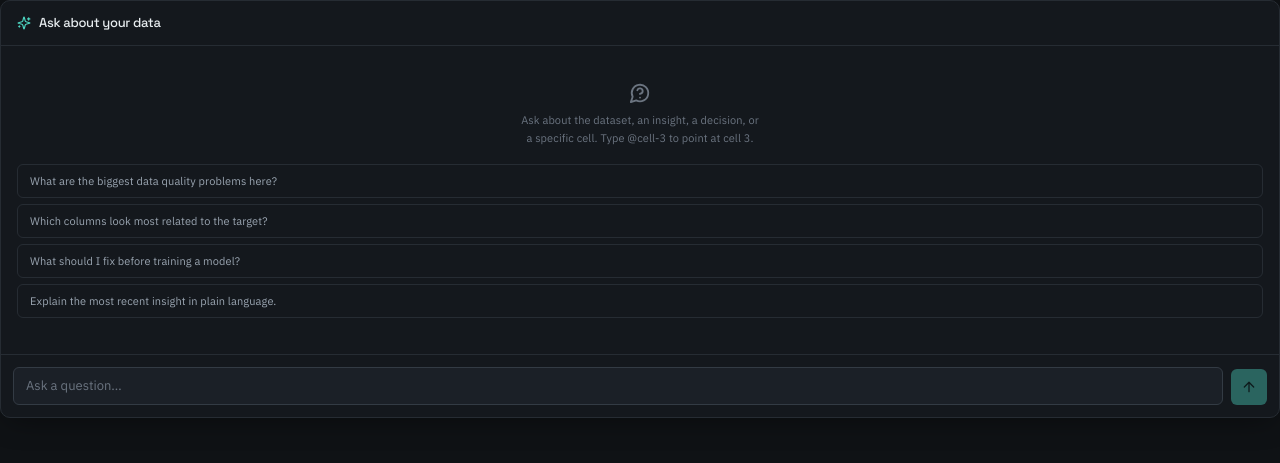
Test case: ChatPanel › keeps the question in the box when sending fails
The width and height of the screenshot is (1280, 463).
Type "why?" into the text box with placeholder "Ask a question…" at [618, 386], box [13,367,1223,405]
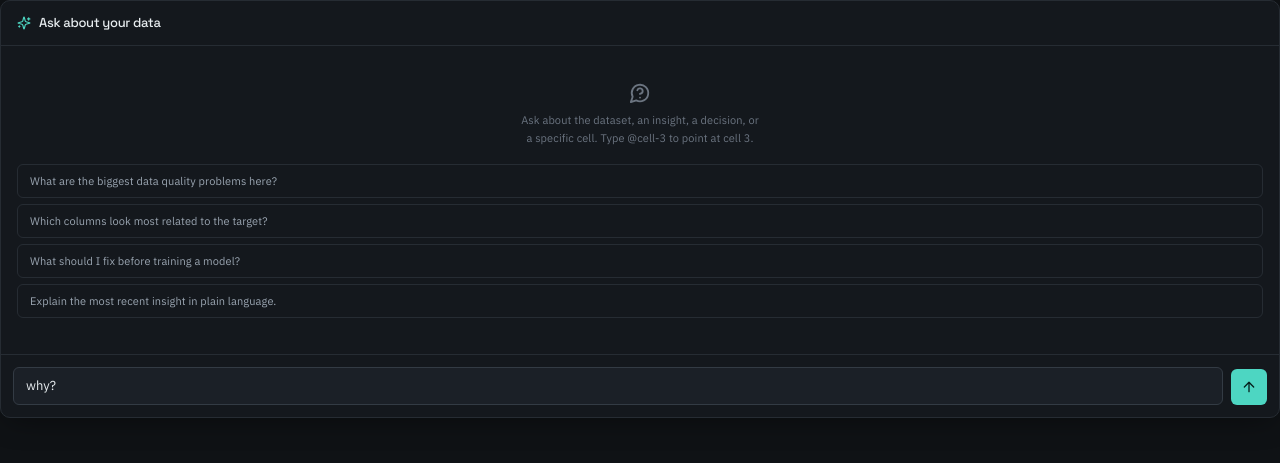
Click the button named "ask" at [1249, 387], box [1231,369,1267,405]
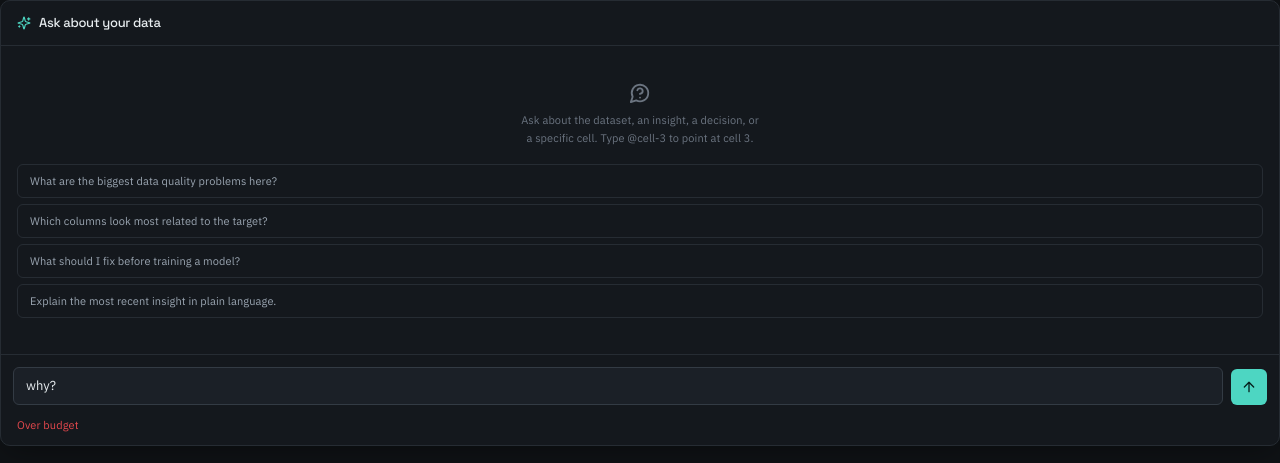
Result: the text "Over budget" is shown at [17,418,79,432]
